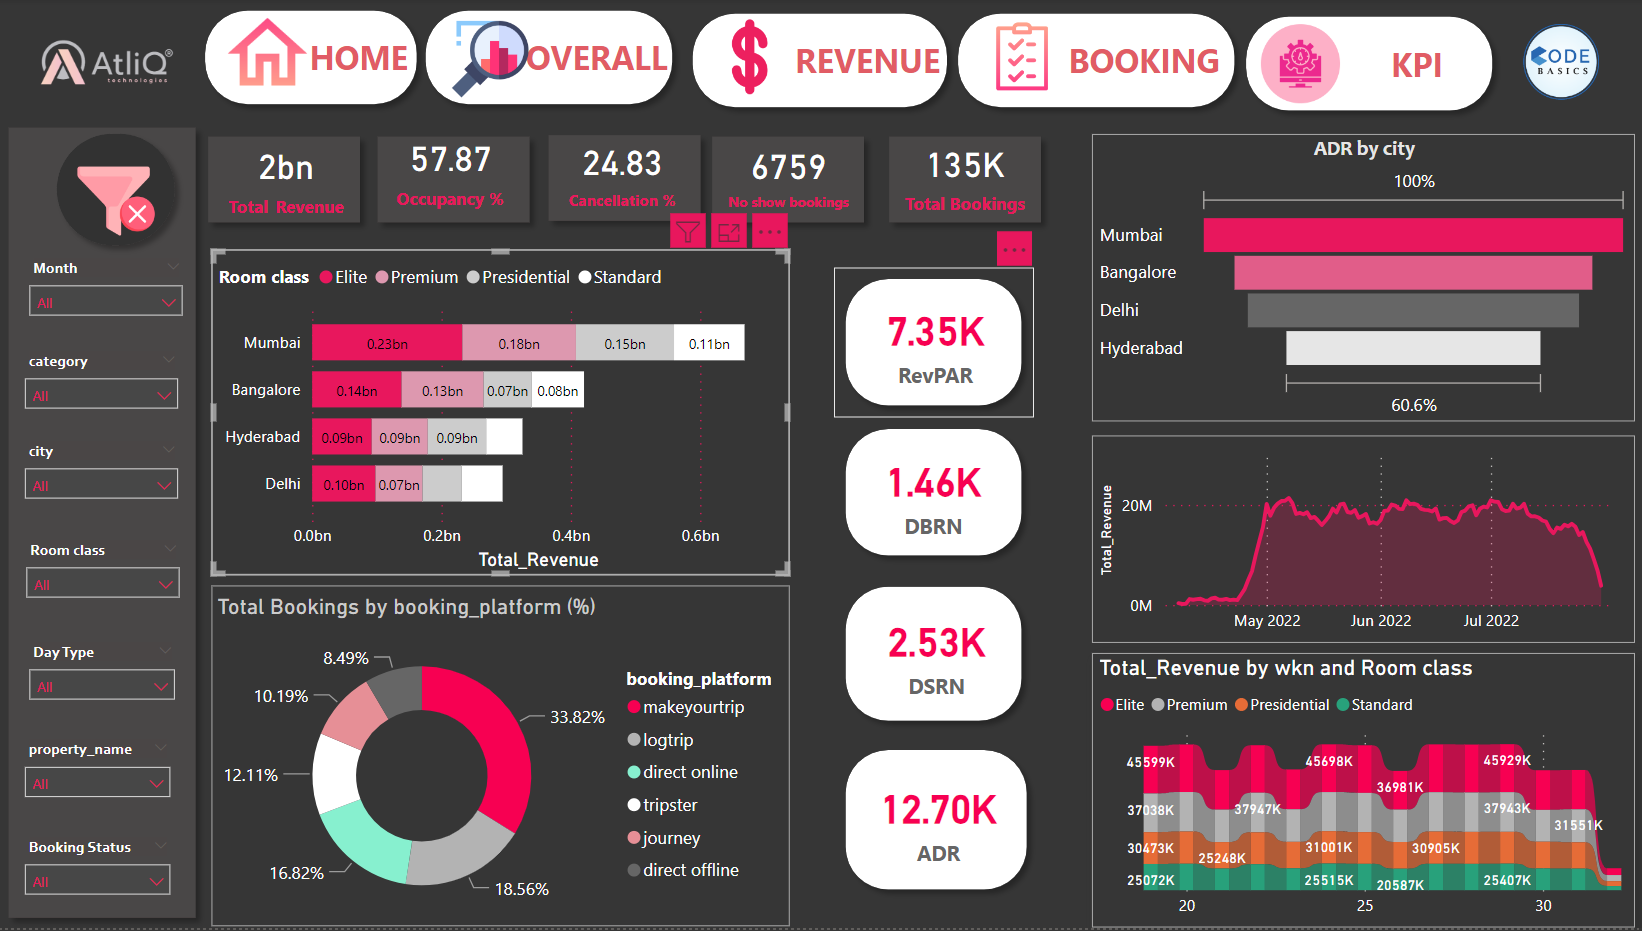

This screenshot's page, from the dashboard's own definition file:
{"tool":"powerbi","page":{"name":"OVERALL","canvas":[1280,720],"ordinal":1},"visuals":[{"type":"shape","box":[151.8,0,181.9,90.5],"z":0,"group":"g3"},{"type":"group","id":"g1","title":"Group 1","box":[324.1,0,209.1,90.5],"z":0,"group":"g4"},{"type":"shape","title":"OVERALL","box":[324.1,0,209.1,90.5],"z":0,"group":"g1"},{"type":"shape","box":[530.4,2,215.1,90.5],"z":0,"group":"g8"},{"type":"shape","box":[735.1,2,232.1,90.5],"z":0,"group":"g11"},{"type":"group","id":"g2","title":"Group 1","box":[959,5,208.7,90.8],"z":0,"group":"g16"},{"type":"shape","box":[959,5,208.7,90.8],"z":0,"group":"g2"},{"type":"shape","box":[38.2,95.5,109.6,104.5],"z":0,"group":"g14"},{"type":"funnel","fields":{"Y":["key_measures.ADR"],"Category":["dim_hotels.city"]},"box":[848.1,104.9,420.5,222.9],"z":0},{"type":"shape","box":[648.4,324.7,154.3,116],"z":0,"group":"g13"},{"type":"image","box":[309.6,11.1,146.6,69.4],"z":1000,"group":"g4"},{"type":"image","box":[974,13.1,71.6,74.6],"z":1000,"group":"g16"},{"type":"shape","box":[681.7,97.8,135.7,84.4],"z":1000,"group":"g5"},{"type":"areaChart","fields":{"Category":["fact_bookings.booking_date.Variation.Date Hierarchy.Year","fact_bookings.booking_date.Variation.Date Hierarchy.Quarter","fact_bookings.booking_date.Variation.Date Hierarchy.Month","fact_bookings.booking_date.Variation.Date Hierarchy.Day"],"Y":["key_measures.Total_Revenue"]},"box":[848.1,337.8,420.5,160.3],"z":1000},{"type":"shape","box":[545.5,97.8,135.7,84.4],"z":2000,"group":"g6"},{"type":"shape","box":[648.4,207.7,154.3,116],"z":2000},{"type":"shape","box":[418.4,96.8,135.7,84.4],"z":3000,"group":"g7"},{"type":"shape","box":[648.4,446.7,154.3,122],"z":3000},{"type":"shape","box":[285.4,97.6,135.7,84.4],"z":4000,"group":"g9"},{"type":"shape","box":[648.4,572.8,158.3,126.1],"z":4000},{"type":"shape","box":[0,90.5,162.8,630.3],"z":5000},{"type":"shape","box":[154.3,97.8,135.7,84.4],"z":5000,"group":"g10"},{"type":"card","fields":{"Values":["key_measures.Total_Revenue"]},"box":[170.4,104.8,105.6,66.3],"z":6000,"group":"g10"},{"type":"slicer","fields":{"Values":["dim_hotels.city"]},"box":[12.1,337.8,138.7,60.3],"z":6000,"group":"g15"},{"type":"donutChart","title":" Total Bookings by booking_platform (%)","fields":{"Category":["fact_bookings.booking_platform"],"Y":["Divide(key_measures.Total Bookings, ScopedEval(key_measures.Total Bookings, []))"]},"box":[166.4,454.8,447.7,264.2],"z":6000},{"type":"barChart","fields":{"Category":["dim_hotels.city"],"Series":["dim_rooms.Room class"],"Y":["key_measures.Total_Revenue"]},"box":[166.4,194.6,447.7,252.1],"z":7000},{"type":"slicer","fields":{"Values":["dim_date.day type"]},"box":[15.1,492.6,132.7,61.3],"z":7000,"group":"g15"},{"type":"group","id":"g3","title":"Group 1","box":[151.8,0,181.9,90.5],"z":8000},{"type":"slicer","fields":{"Values":["dim_rooms.room_class"]},"box":[13.1,414.2,138.7,65.3],"z":8000,"group":"g15"},{"type":"group","id":"g4","title":"Group 2","box":[309.6,0,223.6,90.5],"z":9000},{"type":"slicer","fields":{"Values":["dim_hotels.property_name"]},"box":[12.1,569,132.7,60.3],"z":9000,"group":"g15"},{"type":"group","id":"g5","title":"Group 3","box":[681.7,92.8,135.1,88.7],"z":10000},{"type":"card","fields":{"Values":["key_measures.Total Bookings"]},"box":[685.7,92.8,127.7,85.4],"z":10000,"group":"g5"},{"type":"slicer","fields":{"Values":["fact_bookings.booking_status"]},"box":[12.1,644.4,132.7,61.3],"z":10000,"group":"g15"},{"type":"group","id":"g6","title":"Group 4","box":[545.5,97.8,136.1,83.7],"z":11000},{"type":"card","fields":{"Values":["key_measures.Occupancy %"]},"box":[295,95.8,110.9,72.6],"z":12000,"group":"g9"},{"type":"group","id":"g7","title":"Group 5","box":[413.4,95.8,140.2,84.7],"z":12000},{"type":"image","box":[58.3,118.6,70.4,75.4],"z":12000,"group":"g14"},{"type":"group","id":"g8","title":"Group 1","box":[530.4,2,215.1,90.5],"z":13000,"group":"g12"},{"type":"group","id":"g9","title":"Group 6","box":[285.4,95.8,136.1,86.7],"z":13000},{"type":"group","id":"g10","title":"Group 7","box":[154.3,97.8,136.1,83.7],"z":14000},{"type":"card","fields":{"Values":["key_measures.Cancellation %"]},"box":[413.4,95.8,140.7,76.4],"z":15000,"group":"g7"},{"type":"ribbonChart","fields":{"Y":["key_measures.Total_Revenue"],"Series":["dim_rooms.Room class"],"Category":["dim_date.wkn"]},"box":[848.1,507.2,420.5,212.8],"z":15000},{"type":"group","id":"g11","title":"Group 1","box":[710.9,2,256.1,90.8],"z":16000},{"type":"card","fields":{"Values":["key_measures.Total no show bookings"]},"box":[559.6,101.8,107.6,68.4],"z":16000,"group":"g6"},{"type":"group","id":"g12","title":"Group 9","box":[530.4,2,215.8,90.8],"z":17000},{"type":"image","box":[20.1,10.1,128.7,80.4],"z":18000},{"type":"group","id":"g13","title":"Group 1","box":[648.4,324.7,154.3,116],"z":19000},{"type":"slicer","fields":{"Values":["dim_hotels.category"]},"box":[12.1,267.4,138.7,60.3],"z":20000,"group":"g15"},{"type":"card","fields":{"Values":["key_measures.DSRN"]},"box":[670.6,462.9,110.9,88.7],"z":20000},{"type":"slicer","fields":{"Values":["dim_date.date.Variation.Date Hierarchy.Month"]},"box":[15.1,195,138.7,60.3],"z":21000,"group":"g15"},{"type":"card","fields":{"Values":["key_measures.ADR"]},"box":[670.6,595,114,82.7],"z":21000},{"type":"group","id":"g14","title":"Group 8","box":[38.2,95.5,109.6,104.5],"z":22000,"group":"g15"},{"type":"card","fields":{"Values":["key_measures.DBRN"]},"box":[666.6,347.9,112.9,71.6],"z":22000},{"type":"card","fields":{"Values":["key_measures.RevPAR"]},"box":[668.6,228.9,114,74.6],"z":23000},{"type":"image","box":[1174.8,11.1,74.6,73.6],"z":24000},{"type":"image","box":[541.8,10,83.4,68.4],"z":24001,"group":"g12"},{"type":"group","id":"g15","title":"Group 10","box":[12.1,95.5,141.7,610.2],"z":25000},{"type":"image","box":[710.9,12.1,166.4,63.3],"z":25001,"group":"g11"},{"type":"image","title":"HOME","box":[154.1,0,109.8,84.4],"z":26000,"group":"g3"},{"type":"group","id":"g16","title":"Group 11","box":[959,5,208.7,90.8],"z":26003}]}

Visuals, with their boxes in screenshot pixels (x1, y1, x2, y2), scaled from the page's 1280x720 canvas onto the 1642x931 screenshot:
shape: select_region(195, 0, 428, 117)
"Group 1" group: select_region(416, 0, 684, 117)
"OVERALL" shape: select_region(416, 0, 684, 117)
shape: select_region(680, 3, 956, 120)
shape: select_region(943, 3, 1241, 120)
"Group 1" group: select_region(1230, 6, 1498, 124)
shape: select_region(1230, 6, 1498, 124)
shape: select_region(49, 123, 190, 259)
funnel - key_measures.ADR x dim_hotels.city: select_region(1088, 136, 1627, 424)
shape: select_region(832, 420, 1030, 570)
image: select_region(397, 14, 585, 104)
image: select_region(1249, 17, 1341, 113)
shape: select_region(874, 126, 1049, 236)
areaChart - fact_bookings.booking_date.Variation.Date Hierarchy.Year x fact_bookings.booking_date.Variation.Date Hierarchy.Quarter: select_region(1088, 437, 1627, 644)
shape: select_region(700, 126, 874, 236)
shape: select_region(832, 269, 1030, 419)
shape: select_region(537, 125, 711, 234)
shape: select_region(832, 578, 1030, 735)
shape: select_region(366, 126, 540, 235)
shape: select_region(832, 741, 1035, 904)
shape: select_region(0, 117, 209, 930)
shape: select_region(198, 126, 372, 236)
card - key_measures.Total_Revenue: select_region(219, 136, 354, 221)
slicer - dim_hotels.city: select_region(16, 437, 193, 515)
" Total Bookings by booking_platform (%)" donutChart: select_region(213, 588, 788, 930)
barChart - dim_hotels.city x dim_rooms.Room class: select_region(213, 252, 788, 578)
slicer - dim_date.day type: select_region(19, 637, 190, 716)
"Group 1" group: select_region(195, 0, 428, 117)
slicer - dim_rooms.room_class: select_region(17, 536, 195, 620)
"Group 2" group: select_region(397, 0, 684, 117)
slicer - dim_hotels.property_name: select_region(16, 736, 186, 814)
"Group 3" group: select_region(874, 120, 1048, 235)
card - key_measures.Total Bookings: select_region(880, 120, 1043, 230)
slicer - fact_bookings.booking_status: select_region(16, 833, 186, 913)
"Group 4" group: select_region(700, 126, 874, 235)
card - key_measures.Occupancy %: select_region(378, 124, 521, 218)
"Group 5" group: select_region(530, 124, 710, 233)
image: select_region(75, 153, 165, 251)
"Group 1" group: select_region(680, 3, 956, 120)
"Group 6" group: select_region(366, 124, 541, 236)
"Group 7" group: select_region(198, 126, 373, 235)
card - key_measures.Cancellation %: select_region(530, 124, 711, 223)
ribbonChart - key_measures.Total_Revenue x dim_rooms.Room class: select_region(1088, 656, 1627, 930)
"Group 1" group: select_region(912, 3, 1240, 120)
card - key_measures.Total no show bookings: select_region(718, 132, 856, 220)
"Group 9" group: select_region(680, 3, 957, 120)
image: select_region(26, 13, 191, 117)
"Group 1" group: select_region(832, 420, 1030, 570)
slicer - dim_hotels.category: select_region(16, 346, 193, 424)
card - key_measures.DSRN: select_region(860, 599, 1003, 713)
slicer - dim_date.date.Variation.Date Hierarchy.Month: select_region(19, 252, 197, 330)
card - key_measures.ADR: select_region(860, 769, 1006, 876)
"Group 8" group: select_region(49, 123, 190, 259)
card - key_measures.DBRN: select_region(855, 450, 1000, 542)
card - key_measures.RevPAR: select_region(858, 296, 1004, 392)
image: select_region(1507, 14, 1603, 110)
image: select_region(695, 13, 802, 101)
"Group 10" group: select_region(16, 123, 197, 913)
image: select_region(912, 16, 1125, 97)
"HOME" image: select_region(198, 0, 339, 109)
"Group 11" group: select_region(1230, 6, 1498, 124)
